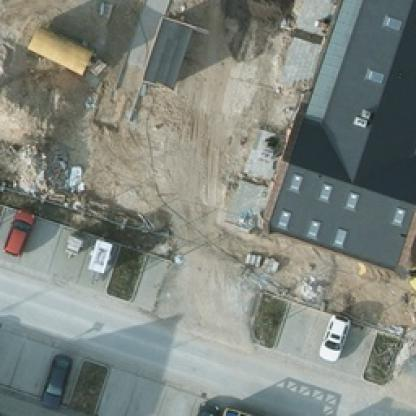car: (0, 205, 42, 257), (35, 351, 72, 408), (315, 314, 348, 360)
